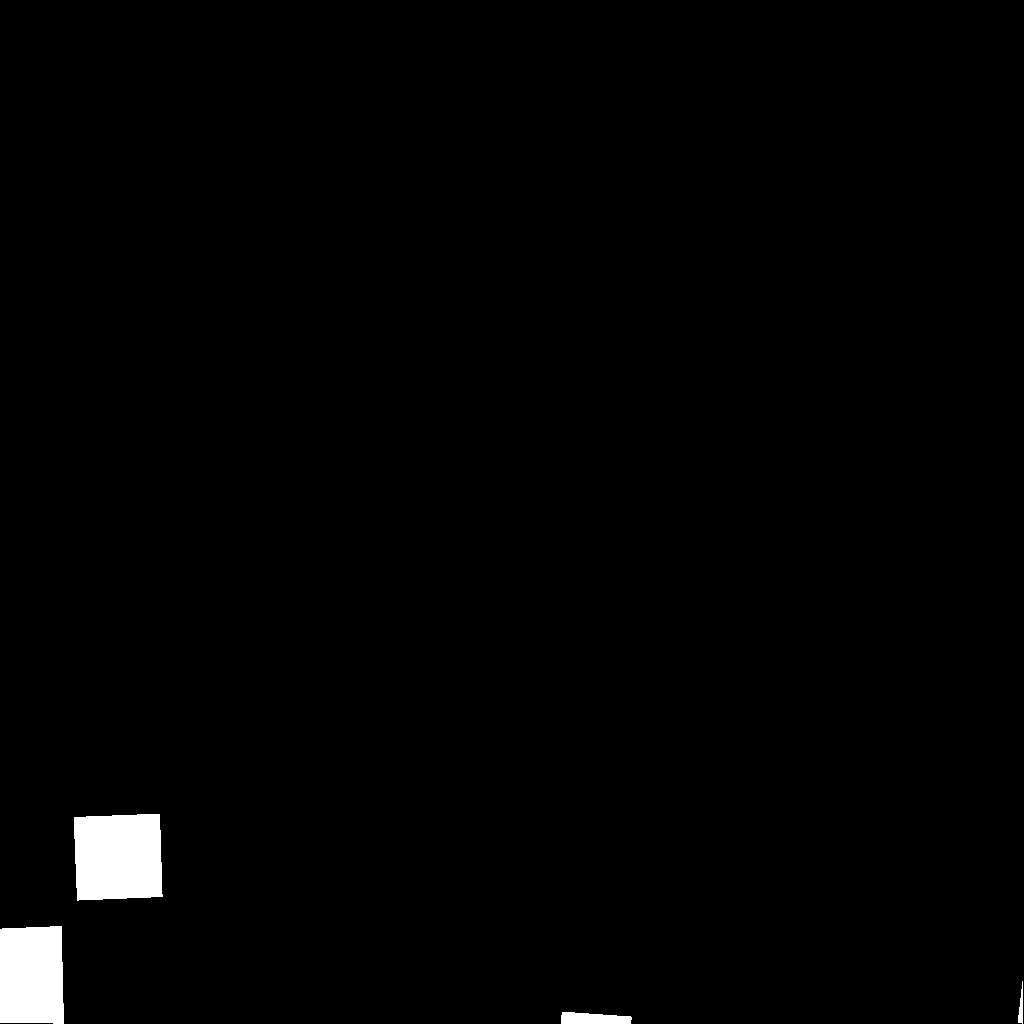building: (74, 814, 163, 901), (0, 926, 65, 1024), (561, 1012, 633, 1024), (1018, 977, 1024, 1024)
